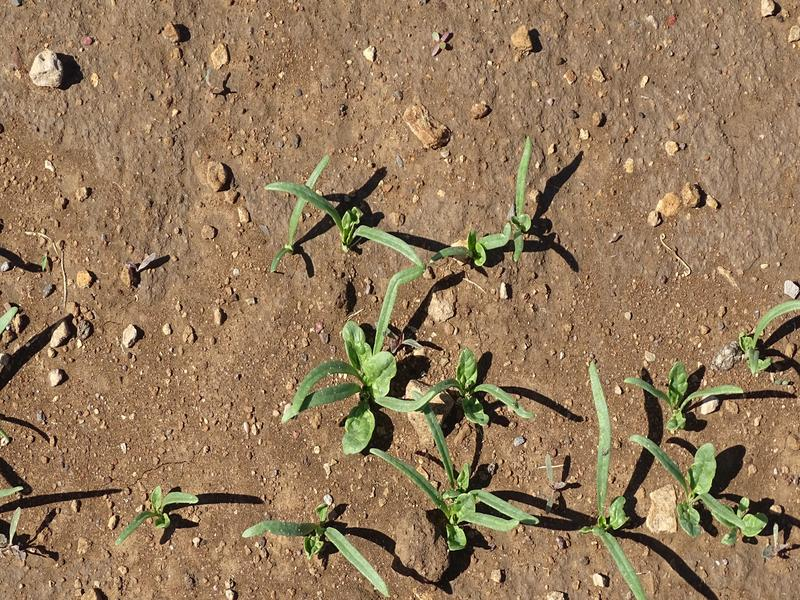Espinaca: (283, 269, 428, 452), (381, 425, 530, 542), (261, 161, 425, 267), (638, 434, 770, 540), (246, 503, 393, 594), (583, 361, 624, 587), (628, 349, 736, 429), (442, 354, 524, 431), (501, 144, 545, 263), (117, 485, 203, 545), (746, 292, 798, 375), (440, 213, 498, 269)
